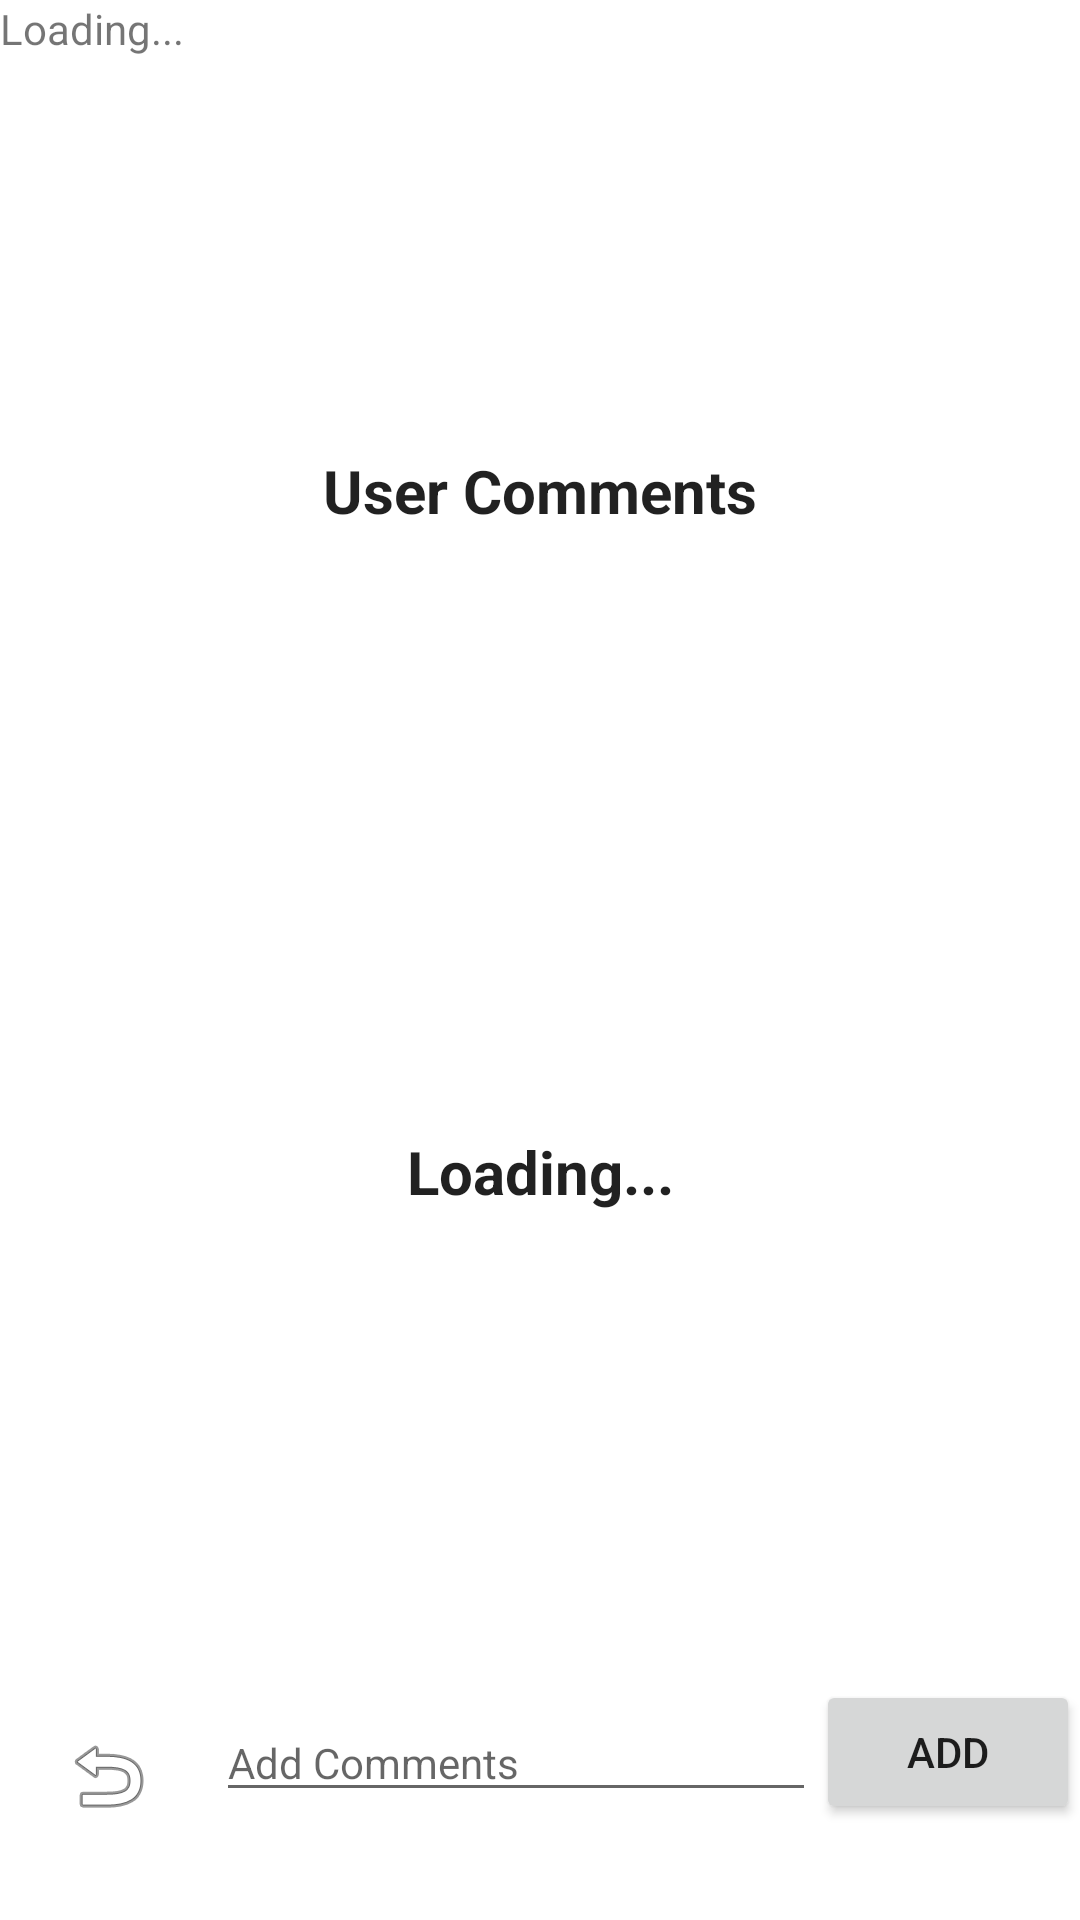

Icons on this 1080x1920 Android screen, each with its box as (x1, y1, x2, y2):
Return to previous screen: (75, 1745, 144, 1808)
